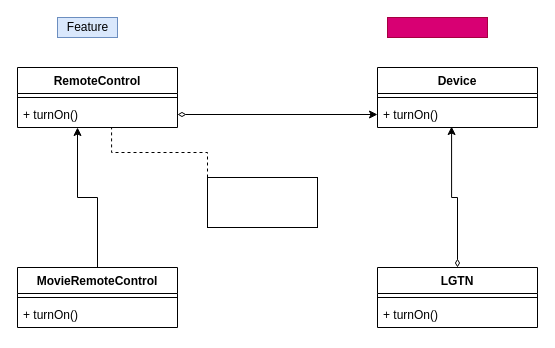
Some shapes in this 555 by 348 pixel diagram are drawn without their labels. Each missing label, with the centre of its shape:
device.turnOn(): point 262,202
Implementation: point 437,27
